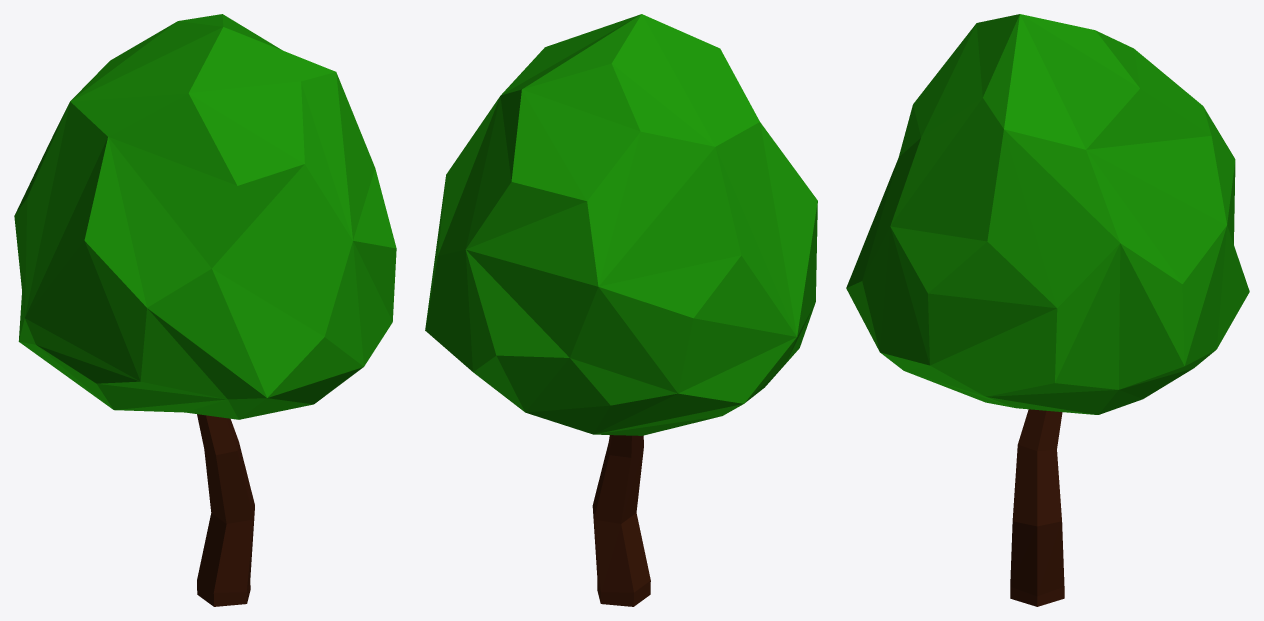
The model's file is finalTree2.FBX.
3 views of the same model, side by side, from view 1: azimuth 30°, elevation 25°; view 2: azimuth 150°, elevation 25°; view 3: azimuth 270°, elevation 25° (orthographic).
Parts seen in each view (by area): view 1: Hedra065; view 2: Hedra065; view 3: Hedra065.
Boxes of the visible parts, x1,y1,x2,y2 form: Hedra065: (14,14,396,606); Hedra065: (425,14,817,606); Hedra065: (846,14,1249,606).
Size of the model in its own units: 53.07 by 84.15 by 53.49.
